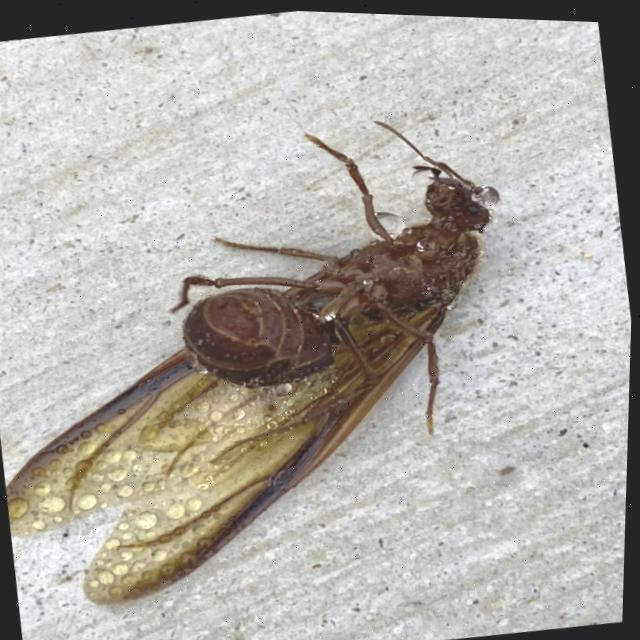Dead-Female-Alate: (0, 90, 554, 628)
